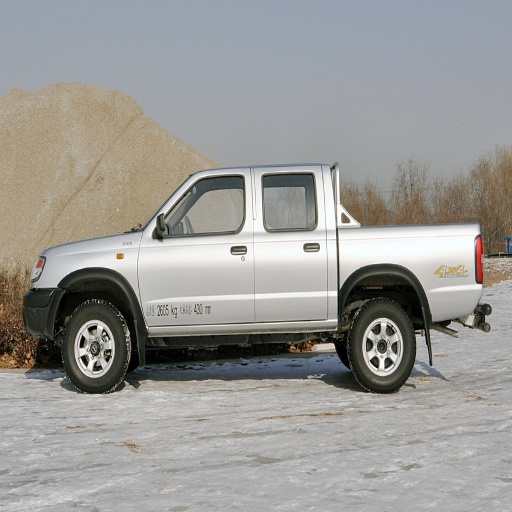back_left_door: (254, 170, 327, 320)
trunk: (315, 224, 481, 329)
